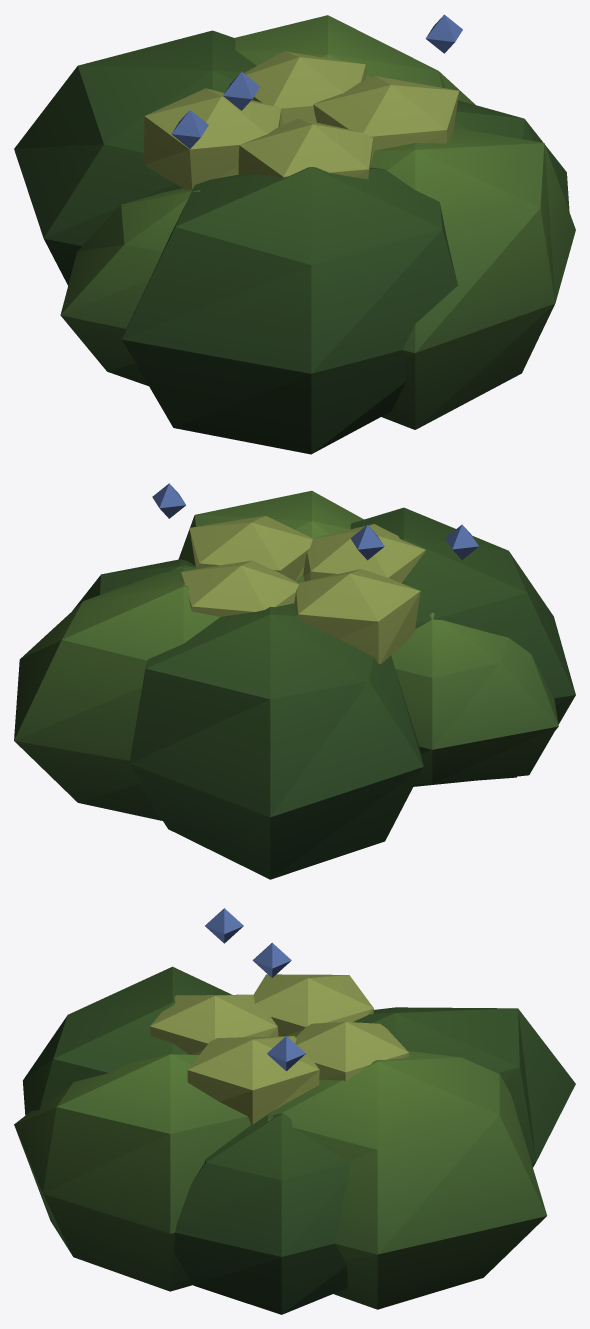
File: fern_bush.glb
3 views of the same model, one above another, from view 1: azimuth 30°, elevation 25°; view 2: azimuth 150°, elevation 25°; view 3: azimuth 270°, elevation 25° (orthographic). The views are drawn at different scales.
Parts seen in each view (by area): view 1: fern_bush; view 2: fern_bush; view 3: fern_bush.
Boxes of the visible parts, x1=… form: fern_bush: x1=14, y1=14, x2=575, y2=454; fern_bush: x1=14, y1=483, x2=575, y2=879; fern_bush: x1=14, y1=908, x2=575, y2=1314.
Size of the model in its own units: 1.4 by 0.7913 by 1.42.
